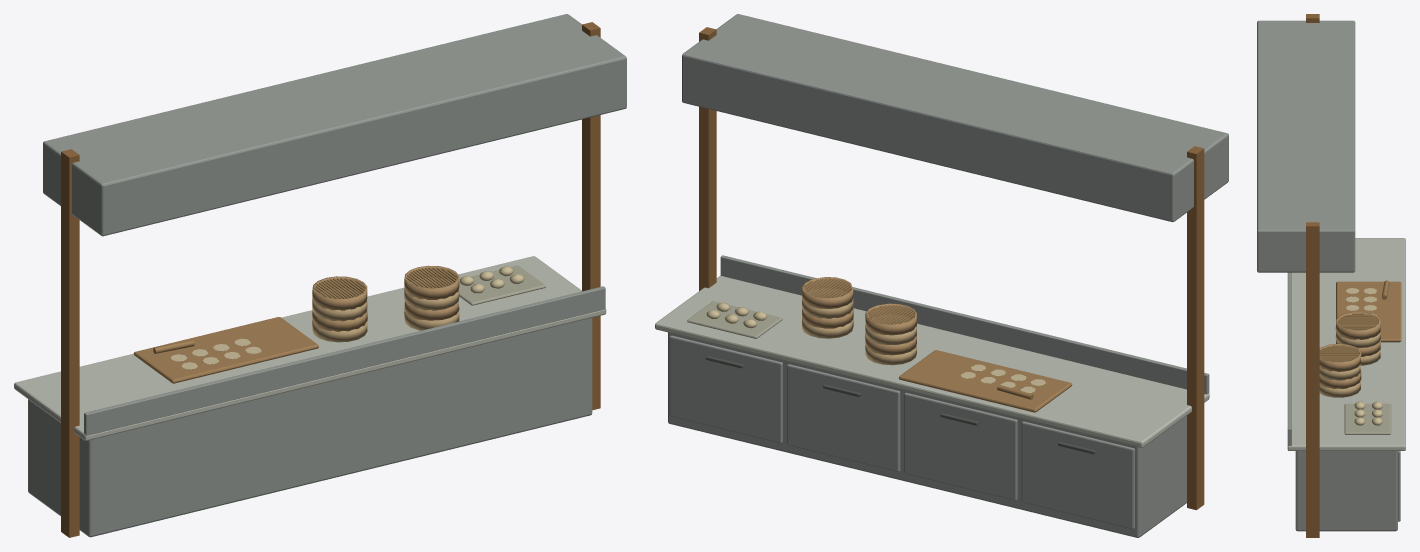
Rendered from pass.glb.
3 views of the same model, side by side, from view 1: azimuth 30°, elevation 25°; view 2: azimuth 150°, elevation 25°; view 3: azimuth 270°, elevation 25° (orthographic). The views are drawn at different scales.
Visible parts, largest first — view 1: Tianjin_pass; view 2: Tianjin_pass; view 3: Tianjin_pass.
Part boxes in pixels (left/top/right/bottom): Tianjin_pass: left=14, top=14, right=626, bottom=537; Tianjin_pass: left=655, top=14, right=1228, bottom=537; Tianjin_pass: left=1257, top=14, right=1405, bottom=537.
Bounding box in the file's own units: 4.32 × 2.96 × 1.28.
